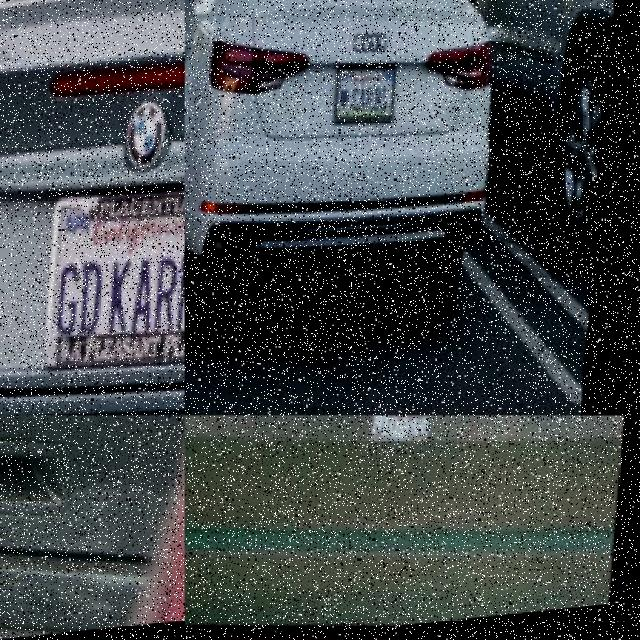licenseplate: (36, 177, 184, 385), (323, 415, 489, 500), (0, 415, 106, 500), (332, 63, 399, 132)
